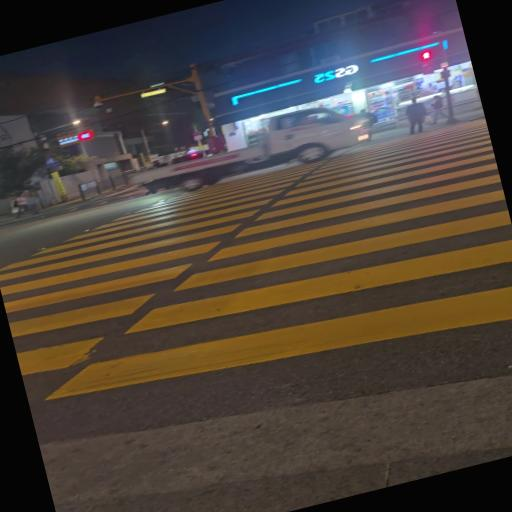yellow-crosswalk: (0, 102, 512, 455)
